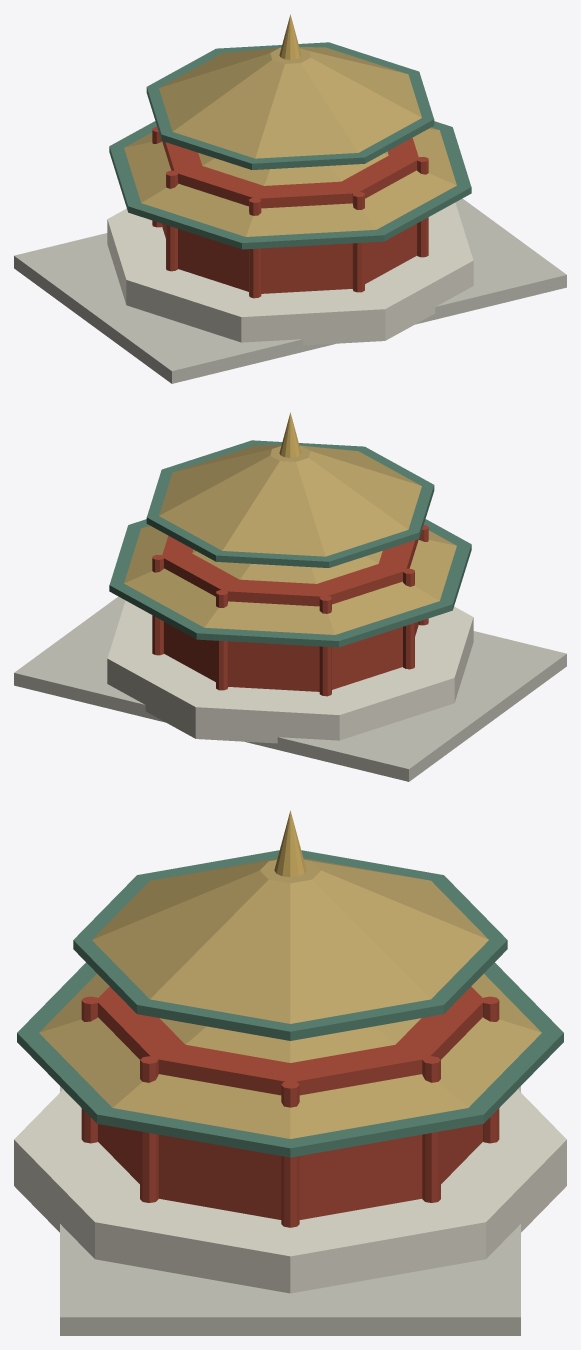
The model's file is shenyang.glb.
3 renders of one model, top to bottom at view 1: azimuth 30°, elevation 25°; view 2: azimuth 150°, elevation 25°; view 3: azimuth 270°, elevation 25°, orthographic. The views are drawn at different scales.
Visible parts, largest first — view 1: octagonal terrace, eight sided roof.001, stone plinth, octagonal hall, eight sided roof, green eaves, green eaves.001, pillar.005, pillar.006, pillar.004, pillar.007, finial; view 2: octagonal terrace, eight sided roof.001, stone plinth, octagonal hall, eight sided roof, green eaves, green eaves.001, pillar.003, pillar.002, pillar.004, pillar.001, finial; view 3: octagonal terrace, eight sided roof.001, octagonal hall, eight sided roof, stone plinth, green eaves, green eaves.001, pillar, pillar.001, pillar.007, finial, pillar.002 (+1 smaller).
Boxes of the visible parts, box(x1,y1,x2,y2) form: octagonal terrace: box(107, 202, 473, 345); eight sided roof.001: box(159, 47, 421, 158); stone plinth: box(14, 198, 566, 383); octagonal hall: box(162, 138, 418, 293); eight sided roof: box(124, 127, 456, 236); green eaves: box(109, 121, 471, 249); green eaves.001: box(146, 42, 434, 169); pillar.005: box(249, 197, 261, 298); pillar.006: box(352, 192, 364, 292); pillar.004: box(166, 170, 177, 271); pillar.007: box(417, 157, 428, 257); finial: box(279, 14, 301, 59); octagonal terrace: box(107, 600, 473, 743); eight sided roof.001: box(159, 445, 421, 556); stone plinth: box(14, 596, 566, 781); octagonal hall: box(162, 536, 418, 691); eight sided roof: box(124, 525, 456, 634); green eaves: box(109, 519, 471, 647); green eaves.001: box(146, 440, 434, 567); pillar.003: box(319, 595, 331, 696); pillar.002: box(216, 590, 228, 690); pillar.004: box(403, 568, 414, 669); pillar.001: box(152, 555, 163, 655); finial: box(279, 412, 301, 457); octagonal terrace: box(14, 1089, 566, 1293); eight sided roof.001: box(92, 858, 488, 1023); octagonal hall: box(96, 986, 484, 1219); eight sided roof: box(39, 974, 541, 1138); stone plinth: box(60, 1086, 520, 1335); green eaves: box(17, 962, 563, 1157); green eaves.001: box(73, 850, 507, 1040); pillar: box(281, 1081, 299, 1227); pillar.001: box(422, 1056, 440, 1202); pillar.007: box(140, 1056, 158, 1202); finial: box(274, 810, 306, 877); pillar.002: box(481, 996, 499, 1143).
Size of the model in its own units: 6.5 by 4.15 by 5.4.
